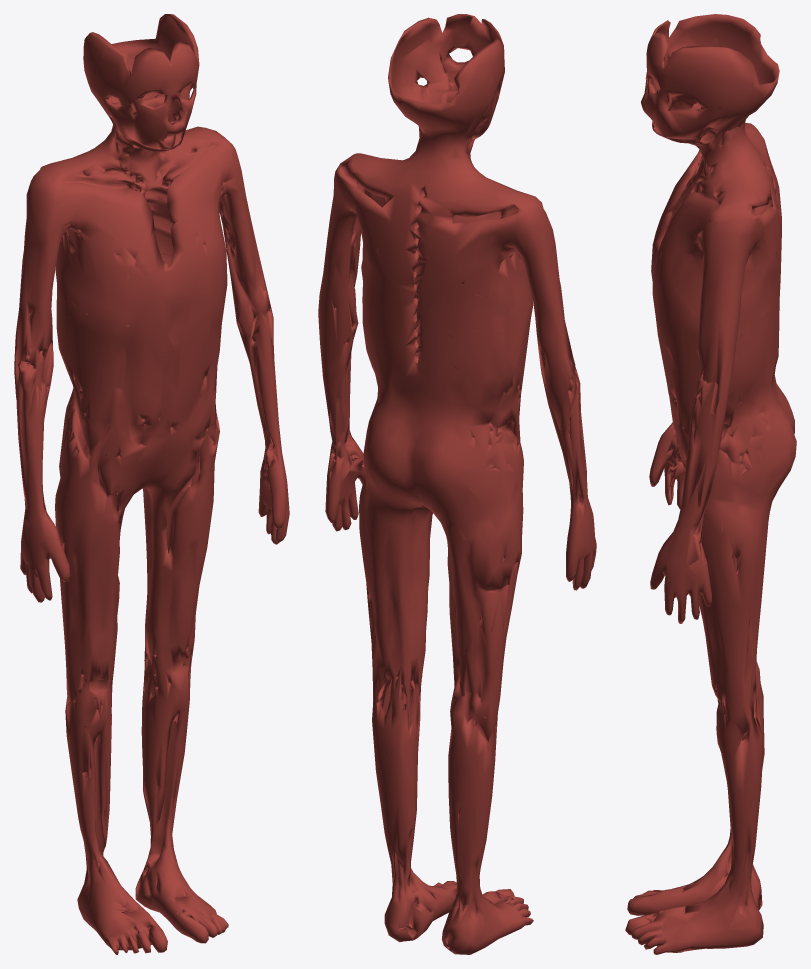
The model's file is pediatric_child_10y_female.muscular.LOD2.glb.
3 views of the same model, side by side, from view 1: azimuth 30°, elevation 25°; view 2: azimuth 150°, elevation 25°; view 3: azimuth 270°, elevation 25° (orthographic).
Visible parts, largest first — view 1: PEDIATRIC.CHILD_10Y.FEMALE.MUSCULAR.MUSCLE; view 2: PEDIATRIC.CHILD_10Y.FEMALE.MUSCULAR.MUSCLE; view 3: PEDIATRIC.CHILD_10Y.FEMALE.MUSCULAR.MUSCLE.
Boxes of the visible parts, x1,y1,x2,y2 form: PEDIATRIC.CHILD_10Y.FEMALE.MUSCULAR.MUSCLE: (14, 14, 289, 954); PEDIATRIC.CHILD_10Y.FEMALE.MUSCULAR.MUSCLE: (318, 14, 596, 954); PEDIATRIC.CHILD_10Y.FEMALE.MUSCULAR.MUSCLE: (625, 14, 796, 954).
Bounding box in the file's own units: 0.4051 × 1.35 × 0.2339.
